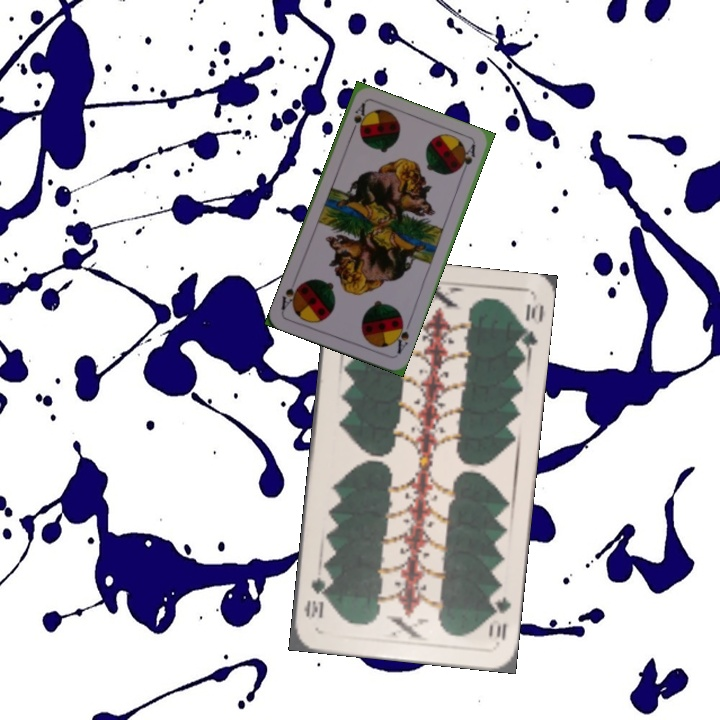G10: (486, 593, 513, 646)
SA: (390, 316, 413, 356), (347, 99, 369, 138)
